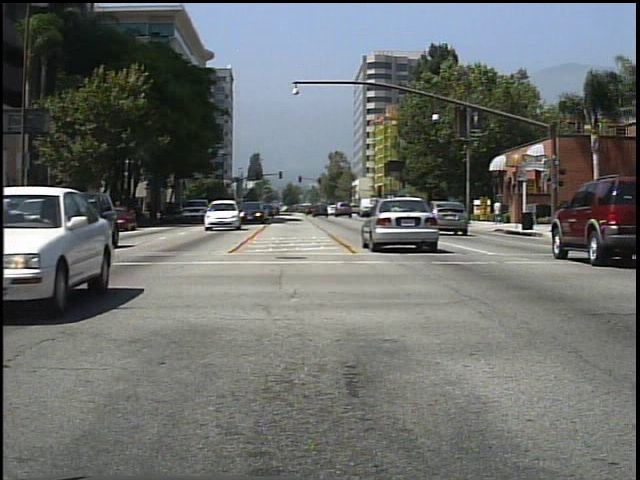person: (449, 194, 466, 229), (492, 195, 505, 227)
